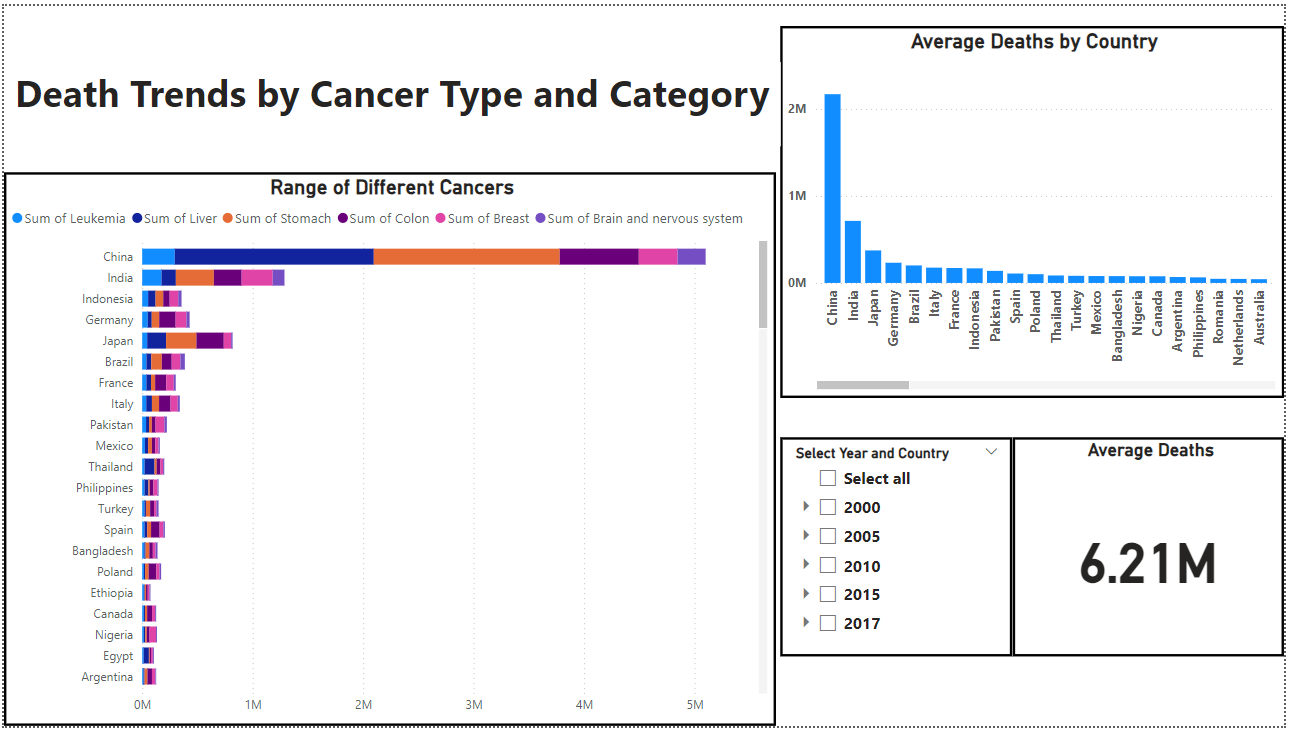

This screenshot's page, from the dashboard's own definition file:
{"tool":"powerbi","page":{"name":"Page 2","canvas":[1280,720],"ordinal":1},"visuals":[{"type":"columnChart","title":"Average Deaths by Country","fields":{"Category":["Death_type.Country"],"Y":["Sum(Patient_age.Avg_death_by_age)"]},"box":[776.5,19.6,503.8,371.7],"z":0},{"type":"barChart","title":"Range of Different Cancers","fields":{"Category":["Death_type.Country"],"Y":["Sum(Death_type.Leukemia)","Sum(Death_type.Liver)","Sum(Death_type.Stomach)","Sum(Death_type.Colon)","Sum(Death_type.Breast)","Sum(Death_type.Brain and nervous system)"]},"box":[0,166.3,771.6,553.9],"z":1000},{"type":"slicer","fields":{"Values":["Patient_age.Year","Patient_age.Country"]},"box":[776.5,431.7,232.3,218.9],"z":2000},{"type":"textbox","box":[0,56.3,776.5,84.4],"z":3000},{"type":"card","title":"Average Deaths","fields":{"Values":["Sum(Patient_age.Avg_death_by_age)"]},"box":[1008.8,431.7,271.5,218.9],"z":4000}]}

Visuals, with their boxes in screenshot pixels (x1, y1, x2, y2), scaled from the page's 1280x720 canvas onto the 1289x729 screenshot:
"Average Deaths by Country" columnChart: region(782, 20, 1288, 396)
"Range of Different Cancers" barChart: region(0, 168, 777, 728)
slicer - Patient_age.Year x Patient_age.Country: region(782, 437, 1016, 659)
textbox: region(0, 57, 782, 142)
"Average Deaths" card: region(1016, 437, 1288, 659)
